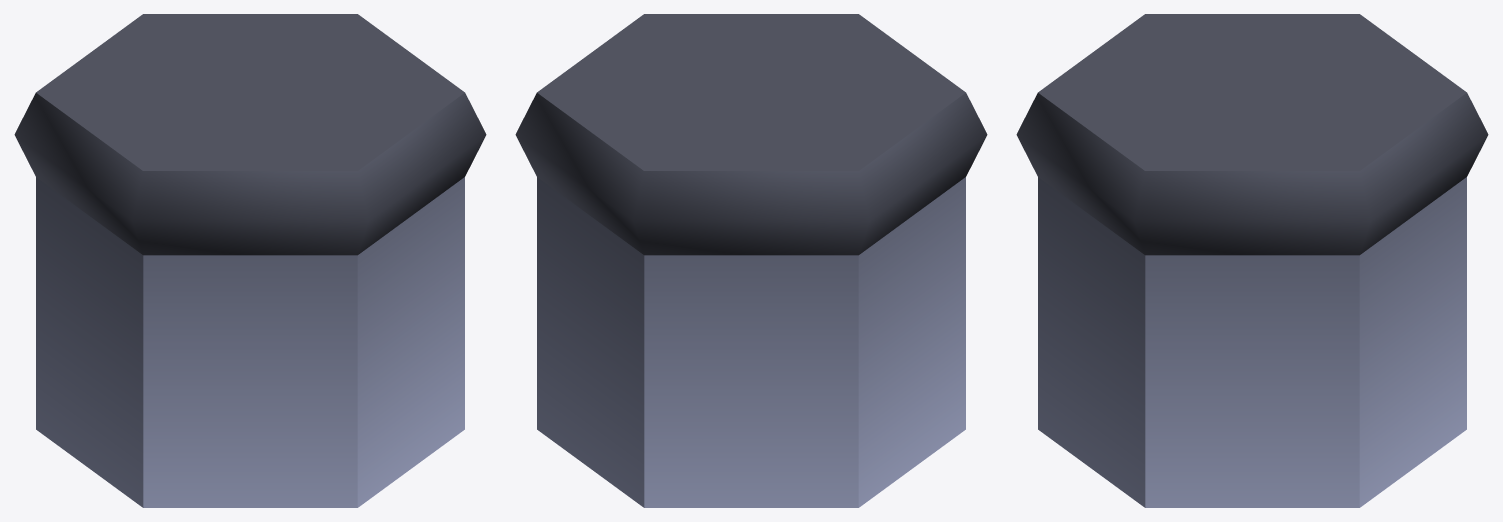
File: block-snow-hexagon.glb
3 renders of one model, left to right at view 1: azimuth 30°, elevation 25°; view 2: azimuth 150°, elevation 25°; view 3: azimuth 270°, elevation 25°, orthographic.
Visible parts, largest first — view 1: block-snow-hexagon; view 2: block-snow-hexagon; view 3: block-snow-hexagon.
Part boxes in pixels (bbox=[...]): block-snow-hexagon: bbox=[14, 14, 486, 507]; block-snow-hexagon: bbox=[515, 14, 987, 507]; block-snow-hexagon: bbox=[1016, 14, 1488, 507].
Bounding box in the file's own units: 1.1 × 1 × 1.27.
